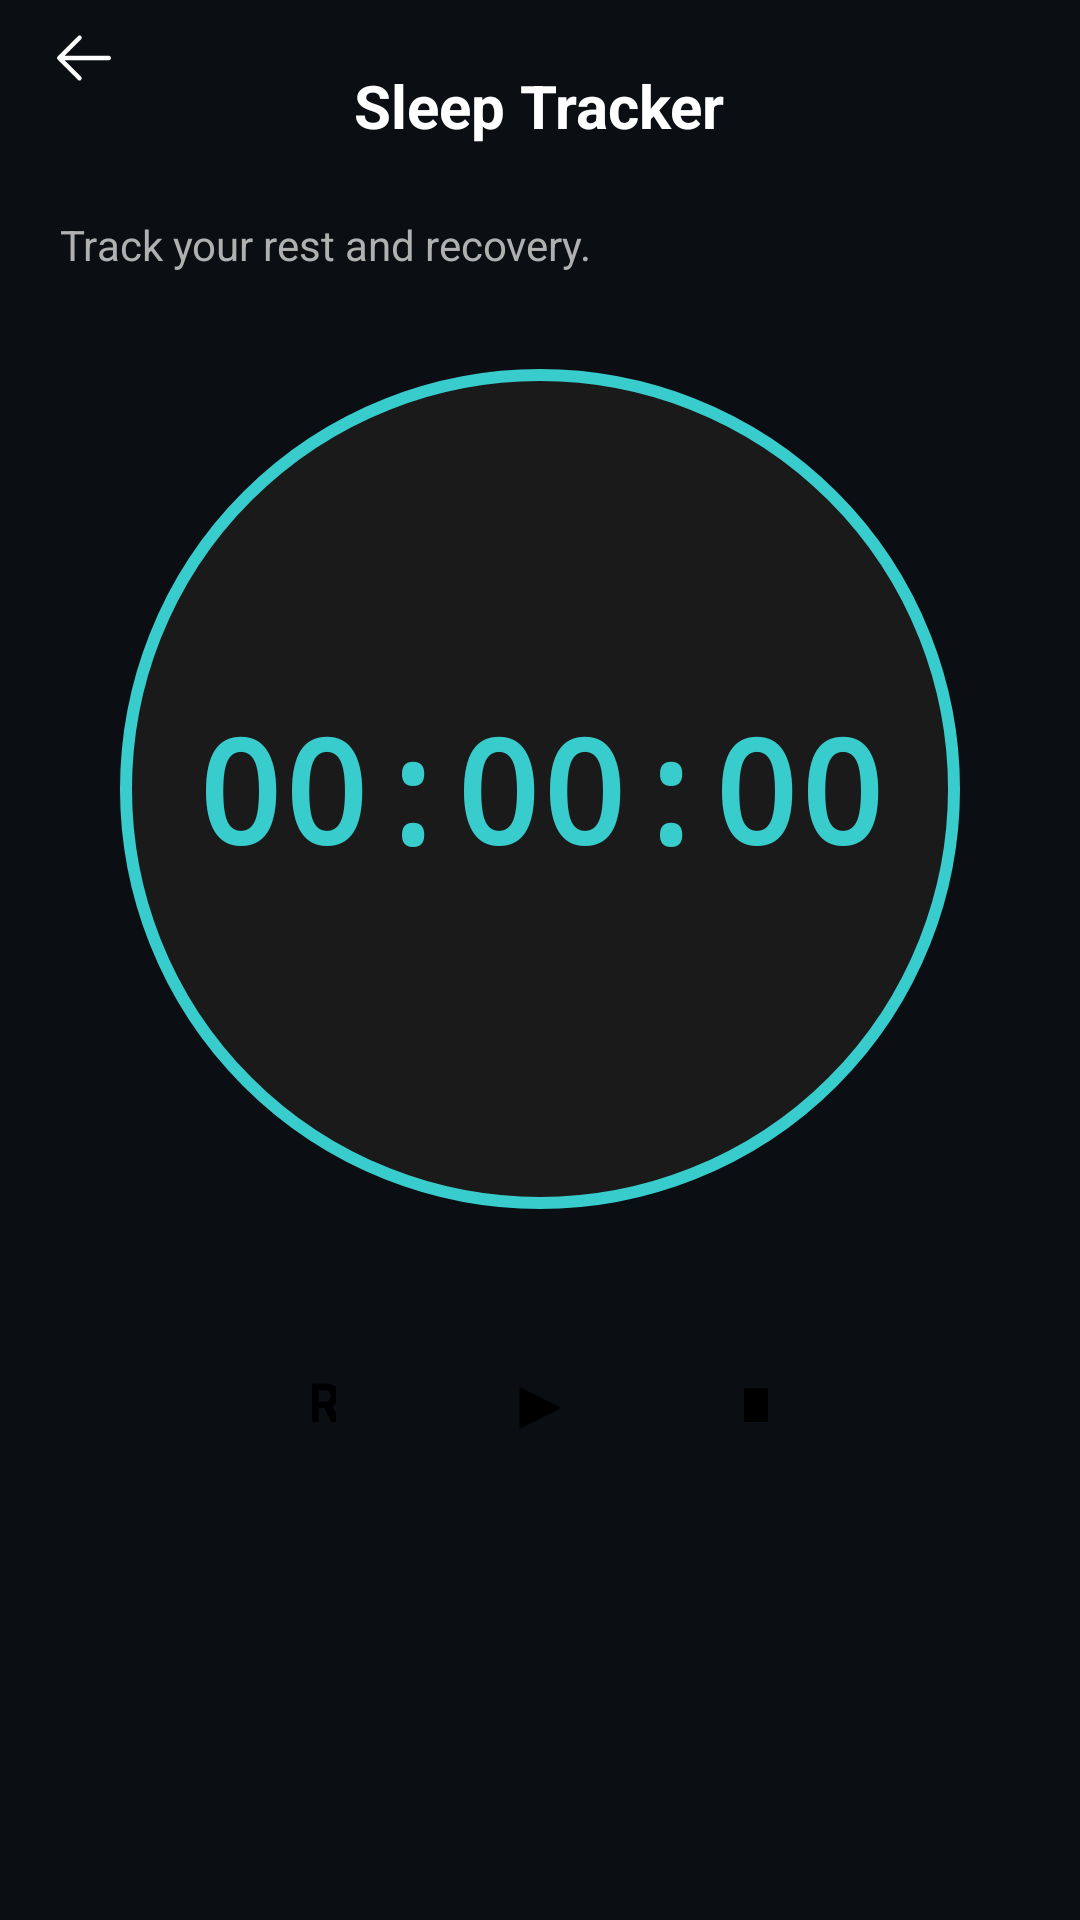

Icons on this 1080px x 1920px Android screen, each with the point to tap as point (x, y):
Back: point (84, 58)
